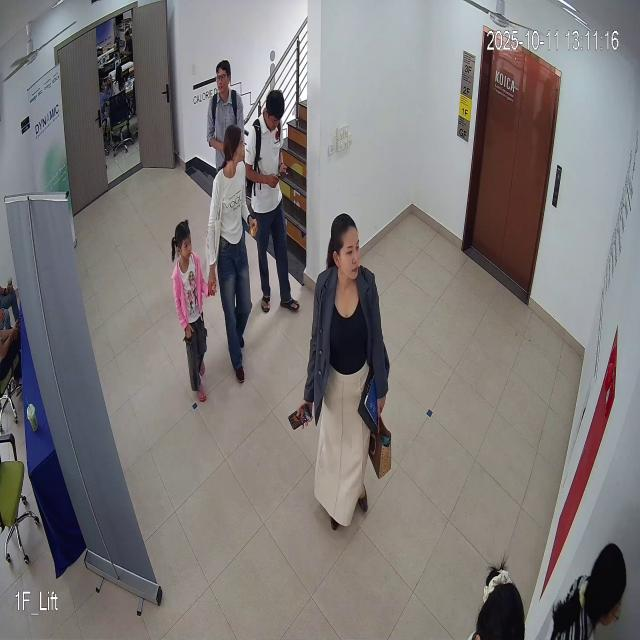face: (330, 210, 362, 282), (171, 215, 200, 270)
